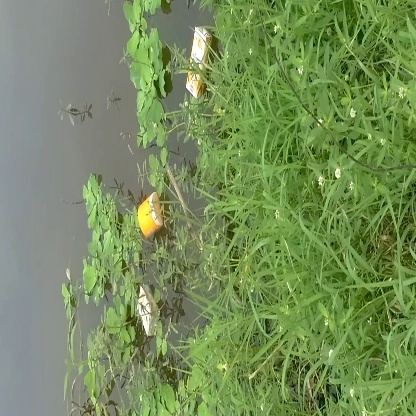bottle: (133, 188, 171, 238)
milk-box: (180, 24, 219, 102)
